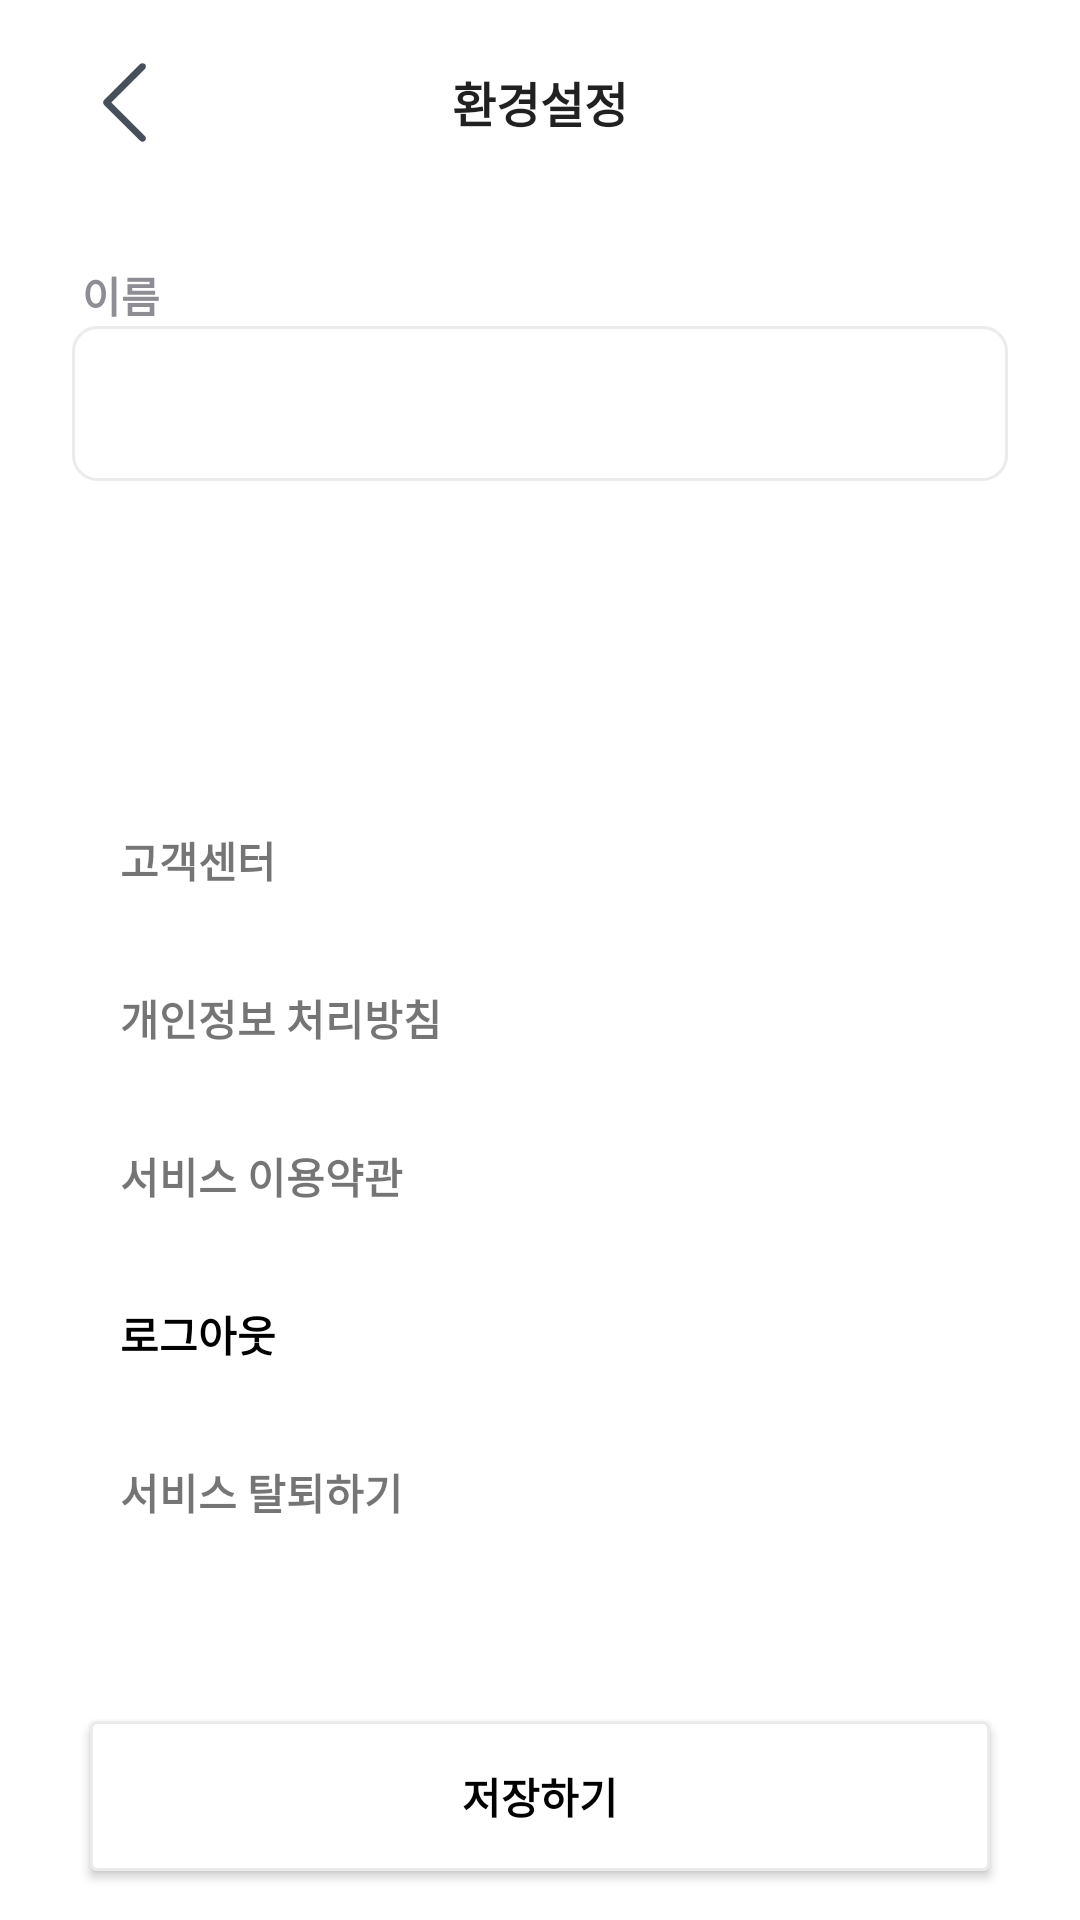

Icons on this 1080w x 1920h Android screen, each with its box as (x1, y1, x2, y2):
arrow back: (103, 63, 146, 142)
